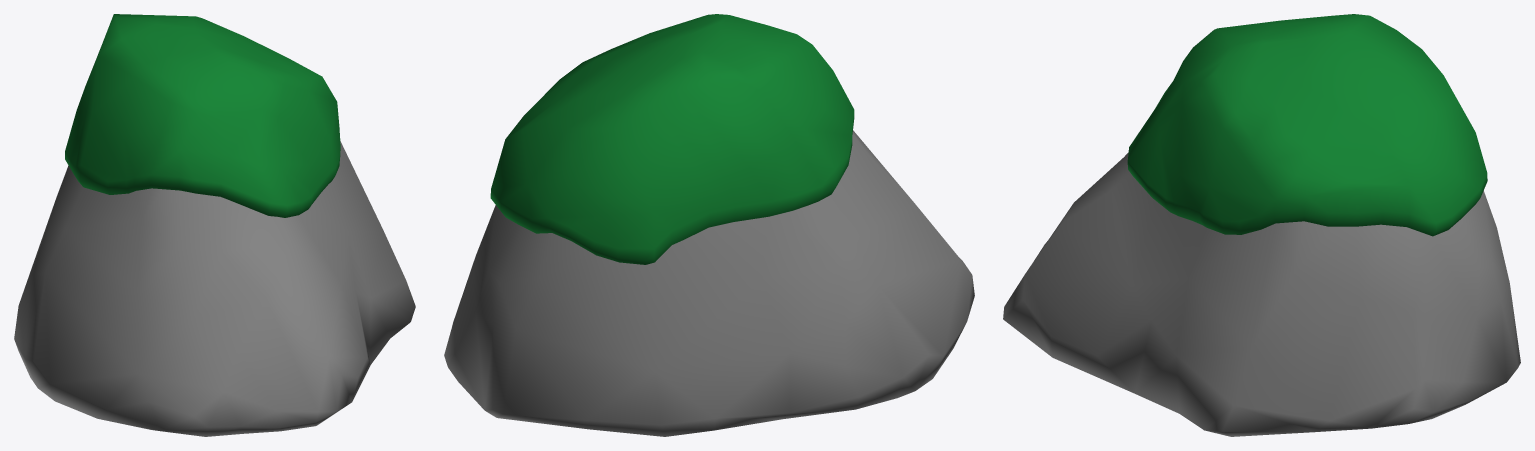
The model's file is Stone3.fbx.
The picture shows the model from 3 angles, left to right: view 1: azimuth 30°, elevation 25°; view 2: azimuth 150°, elevation 25°; view 3: azimuth 270°, elevation 25°; orthographic projection. The views are drawn at different scales.
Parts seen in each view (by area): view 1: 3stone, 3moss; view 2: 3stone, 3moss; view 3: 3stone, 3moss.
Boxes of the visible parts, <box> form: 3stone: <box>14,141,415,436</box>; 3moss: <box>65,14,340,217</box>; 3stone: <box>444,130,974,436</box>; 3moss: <box>490,14,854,264</box>; 3stone: <box>1003,152,1520,436</box>; 3moss: <box>1127,14,1487,236</box>.
Bounding box in the file's own units: 98.71 × 76.89 × 116.
